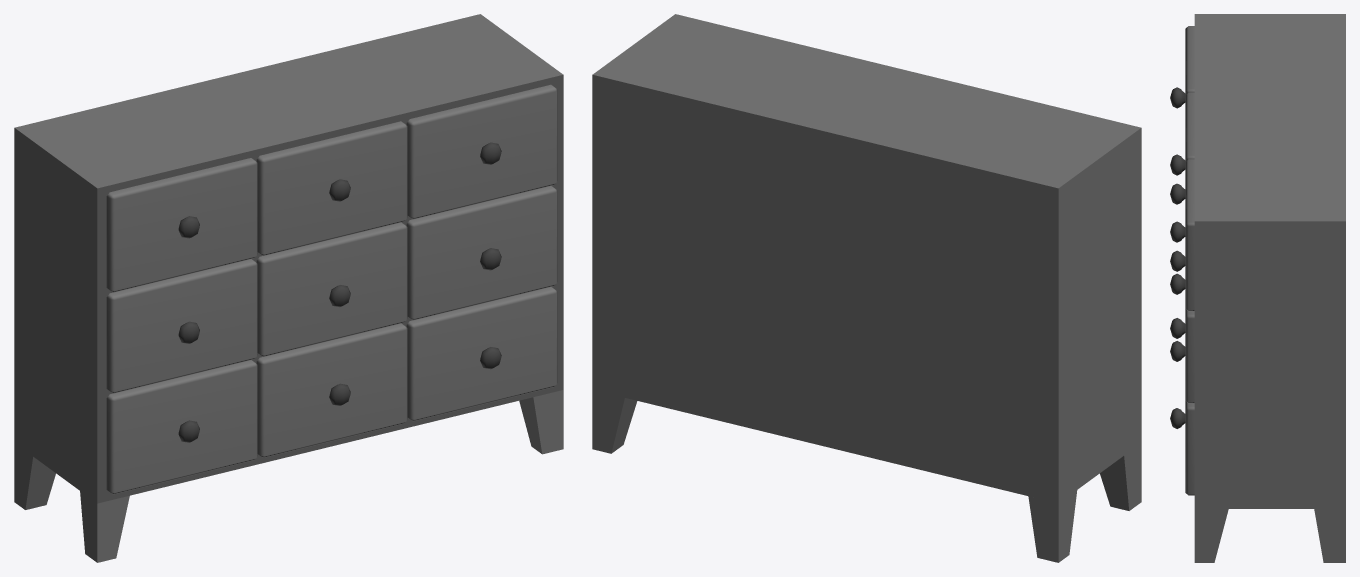
File: dresser_011.fbx
The picture shows the model from 3 angles, left to right: view 1: azimuth 30°, elevation 25°; view 2: azimuth 150°, elevation 25°; view 3: azimuth 270°, elevation 25°; orthographic projection. The views are drawn at different scales.
Parts seen in each view (by area): view 1: dresser_011; view 2: dresser_011; view 3: dresser_011.
Boxes of the visible parts, <box> form: dresser_011: <box>14,14,563,562</box>; dresser_011: <box>592,14,1141,562</box>; dresser_011: <box>1170,14,1345,562</box>.
Bounding box in the file's own units: 149 × 53.31 × 114.
